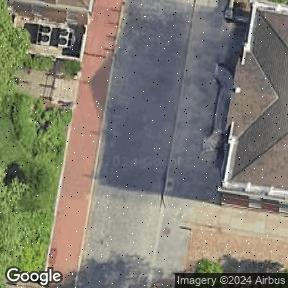vegetation: (0, 161, 55, 288), (54, 59, 80, 78), (197, 259, 221, 273)
